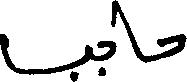X: (0, 29, 90, 81), (117, 0, 141, 65), (99, 0, 113, 80), (158, 29, 186, 64)
